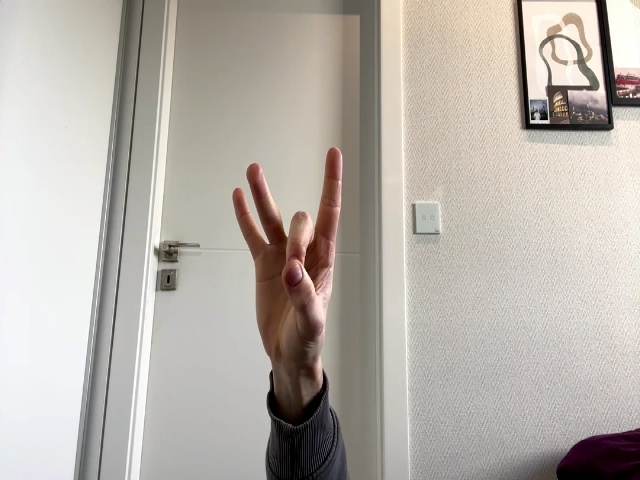G: (233, 147, 342, 360)
